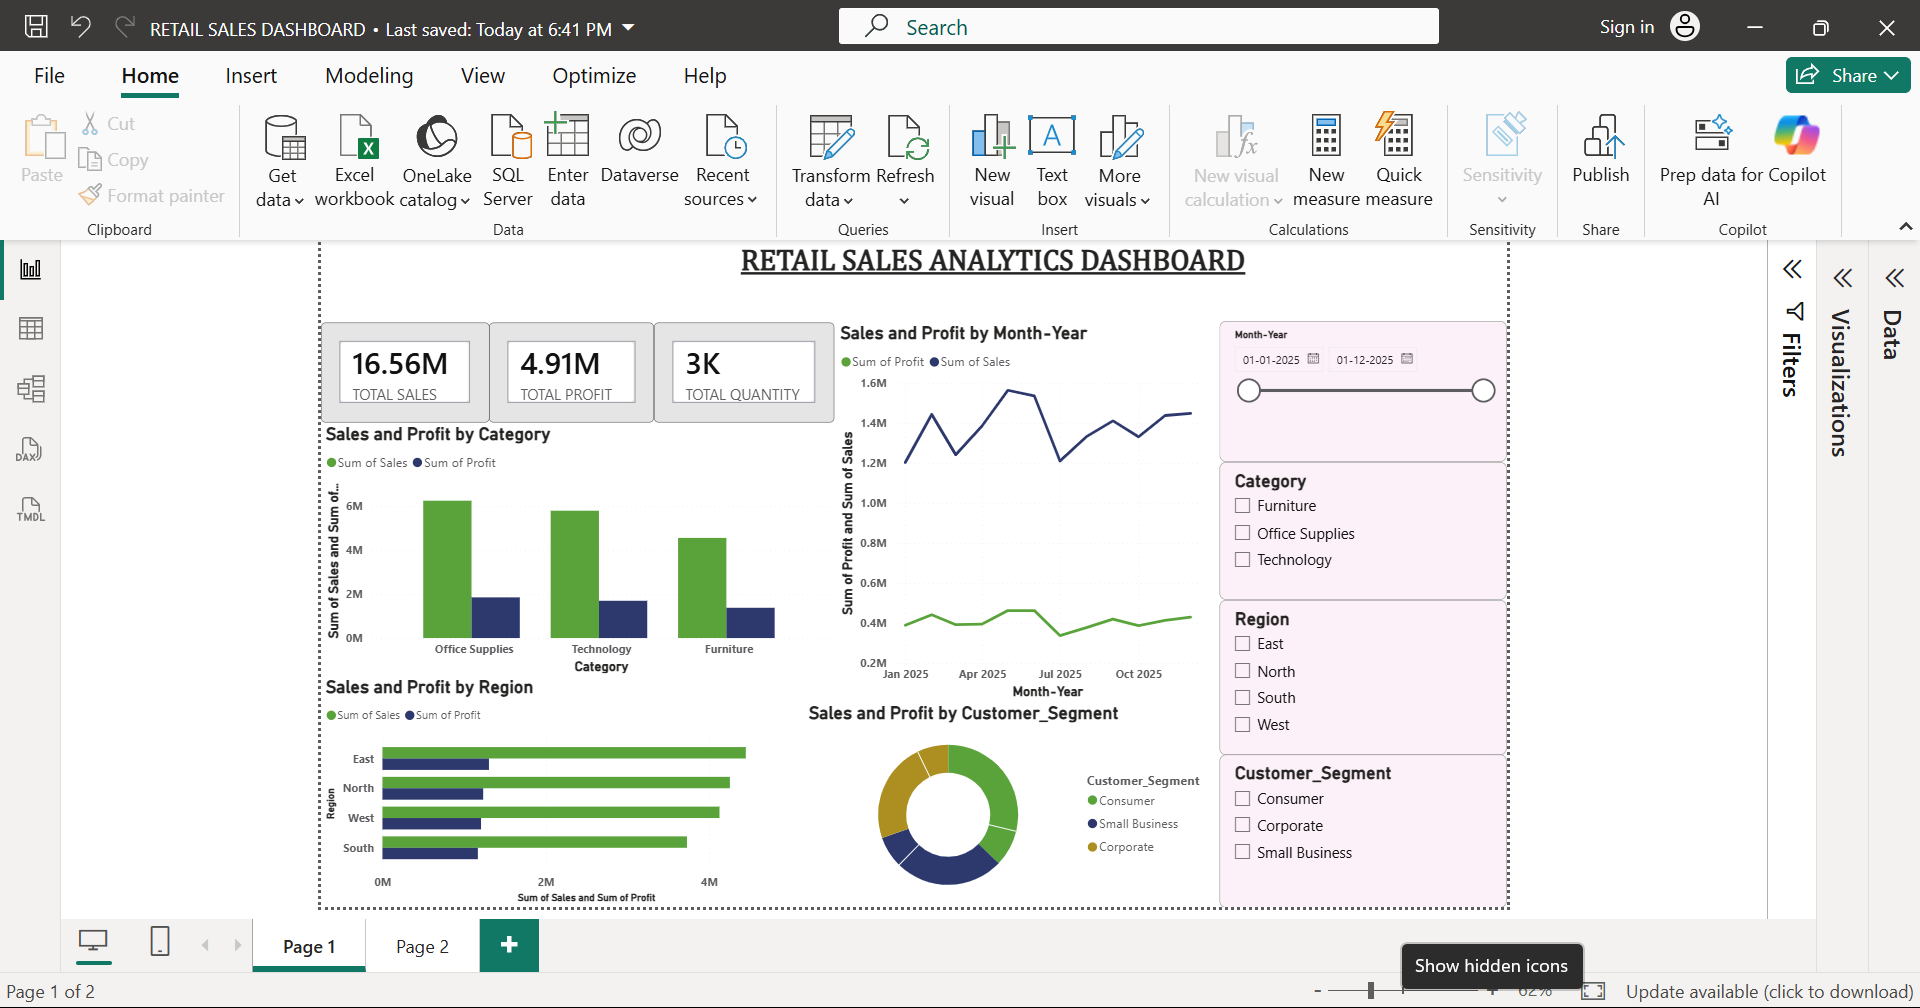

Layout of this report page (visuals, bound fields, positions):
{"tool":"powerbi","page":{"name":"Dashboard 1","canvas":[1280,720],"ordinal":0},"visuals":[{"type":"cardVisual","fields":{"Data":["Cleaned Data.TOTAL SALES"]},"box":[0,89.1,182,107.7],"z":0},{"type":"cardVisual","fields":{"Data":["Cleaned Data.TOTAL PROFIT"]},"box":[182,89.1,178.3,107.7],"z":1000},{"type":"cardVisual","fields":{"Data":["Cleaned Data.TOTAL QUANTITY"]},"box":[360.2,89.1,195,107.7],"z":2000},{"type":"clusteredColumnChart","title":" Sales and Profit by Category","fields":{"Category":["Cleaned Data.Category"],"Y":["Sum(Cleaned Data.Sales)","Sum(Cleaned Data.Profit)"]},"box":[0,196.8,555.2,274.8],"z":3000},{"type":"clusteredBarChart","title":"Sales and Profit by Region","fields":{"Category":["Cleaned Data.Region"],"Y":["Sum(Cleaned Data.Sales)","Sum(Cleaned Data.Profit)"]},"box":[0,471.6,521.8,248.8],"z":4000},{"type":"lineClusteredColumnComboChart","title":"Sales and Profit by Month-Year","fields":{"Category":["Cleaned Data.Month-Year"],"Y2":["Sum(Cleaned Data.Profit)"],"Y":["Sum(Cleaned Data.Sales)"]},"box":[555.4,89.1,461.5,409.7],"z":5000},{"type":"donutChart","title":"Sales and Profit by Customer_Segment","fields":{"Category":["Cleaned Data.Customer_Segment"],"Y":["Sum(Cleaned Data.Sales)","Sum(Cleaned Data.Profit)"]},"box":[521.4,498.7,495.5,221.8],"z":6000},{"type":"slicer","fields":{"Values":["Cleaned Data.Customer_Segment"]},"box":[1016.9,555.4,262.3,165.2],"z":7000},{"type":"slicer","fields":{"Values":["Cleaned Data.Category"]},"box":[1016.9,239.6,262.3,149],"z":8000},{"type":"slicer","fields":{"Values":["Cleaned Data.Month-Year"]},"box":[1016.9,87.4,262.3,152.2],"z":9000},{"type":"slicer","fields":{"Values":["Cleaned Data.Region"]},"box":[1016.9,388.6,262.3,166.8],"z":10000},{"type":"textbox","box":[434.5,0,583.1,63.1],"z":11000}]}

Visuals, with their boxes on the page's 1280x720 design canvas (x1, y1, x2, y2). These are canvas units, not pixel positions in the 1920x1008 screenshot, which may show the page scaled, cropped or inside an application window:
cardVisual - Cleaned Data.TOTAL SALES: l=0, t=89, r=182, b=197
cardVisual - Cleaned Data.TOTAL PROFIT: l=182, t=89, r=360, b=197
cardVisual - Cleaned Data.TOTAL QUANTITY: l=360, t=89, r=555, b=197
" Sales and Profit by Category" clusteredColumnChart: l=0, t=197, r=555, b=472
"Sales and Profit by Region" clusteredBarChart: l=0, t=472, r=522, b=720
"Sales and Profit by Month-Year" lineClusteredColumnComboChart: l=555, t=89, r=1017, b=499
"Sales and Profit by Customer_Segment" donutChart: l=521, t=499, r=1017, b=720
slicer - Cleaned Data.Customer_Segment: l=1017, t=555, r=1279, b=721
slicer - Cleaned Data.Category: l=1017, t=240, r=1279, b=389
slicer - Cleaned Data.Month-Year: l=1017, t=87, r=1279, b=240
slicer - Cleaned Data.Region: l=1017, t=389, r=1279, b=555
textbox: l=434, t=0, r=1018, b=63
